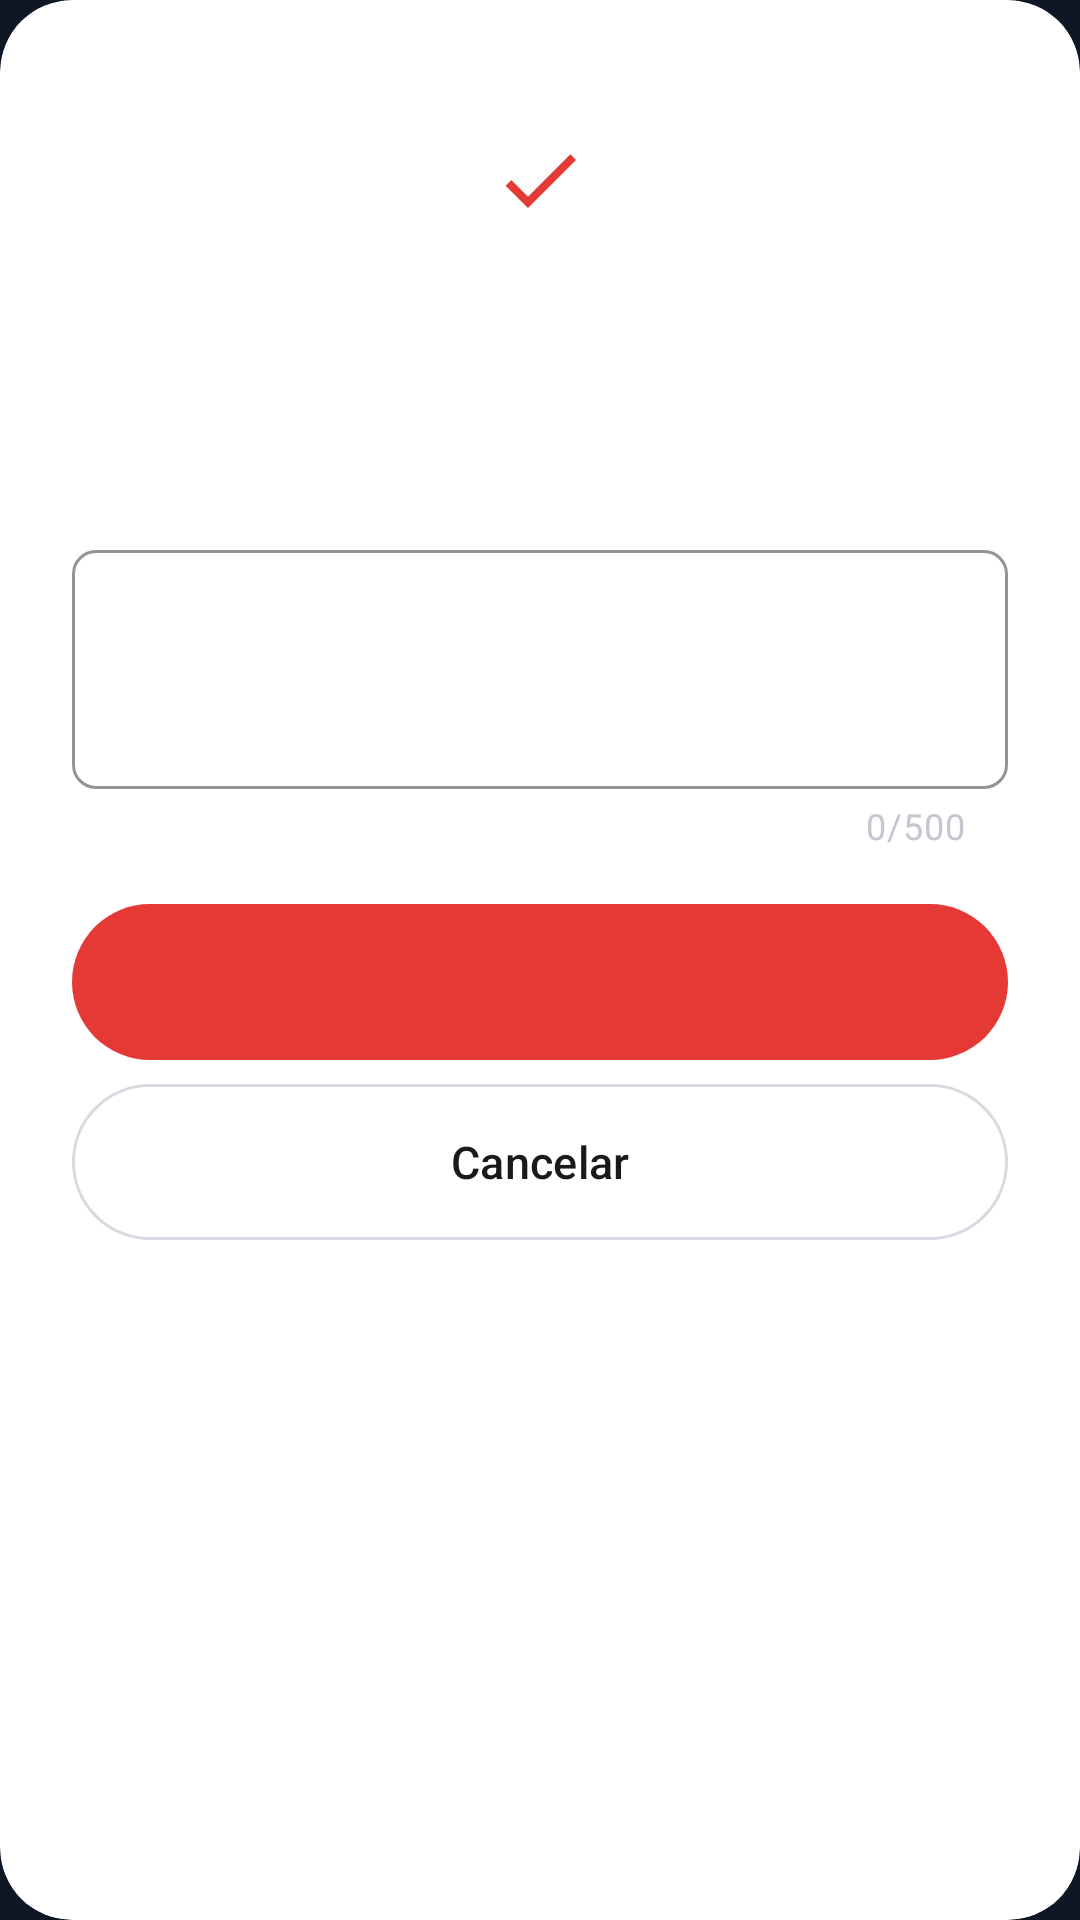

Icon bounding boxes for this 1080*1920 phone screenshot, format box(x1, y1, x2, y2):
check success: box(506, 154, 576, 208)
